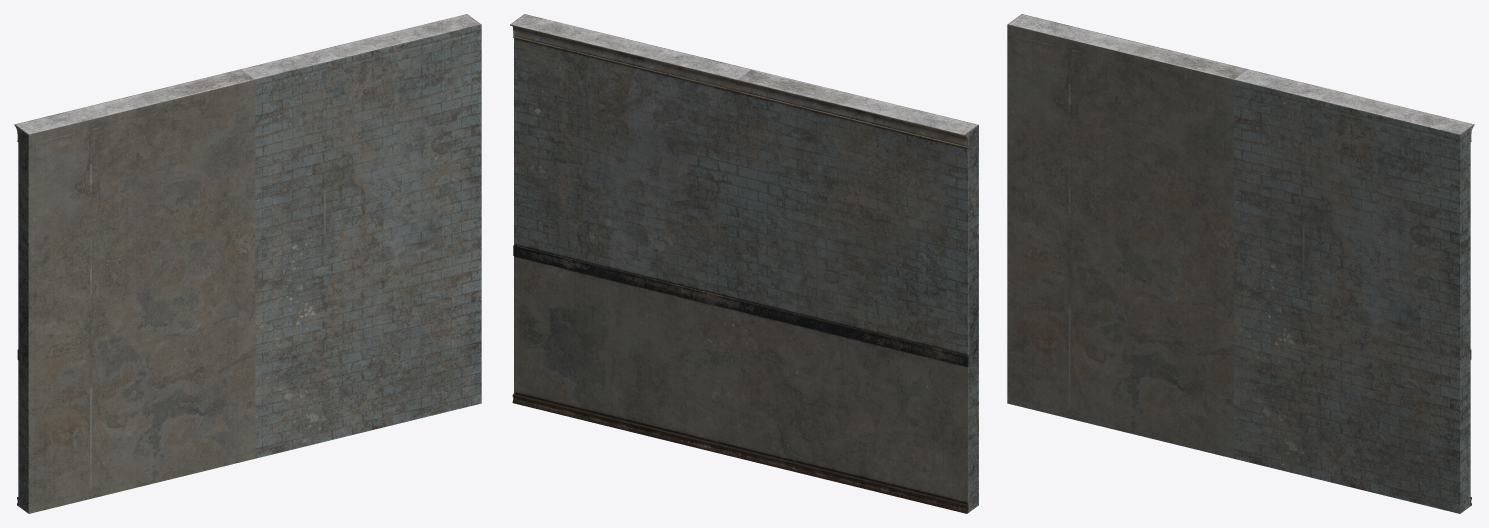
File: wallbig.glb
The picture shows the model from 3 angles, left to right: view 1: azimuth 30°, elevation 25°; view 2: azimuth 150°, elevation 25°; view 3: azimuth 330°, elevation 25°; orthographic projection.
Visible parts, largest first — view 1: 05_05_0; view 2: 05_05_0; view 3: 05_05_0.
Boxes of the visible parts, left/top/right/bottom form: 05_05_0: left=14, top=14, right=481, bottom=513; 05_05_0: left=510, top=14, right=978, bottom=513; 05_05_0: left=1007, top=14, right=1474, bottom=513.
Bounding box in the file's own units: 5 × 4 × 0.275.
Materials: 1 (1 with a texture image).
